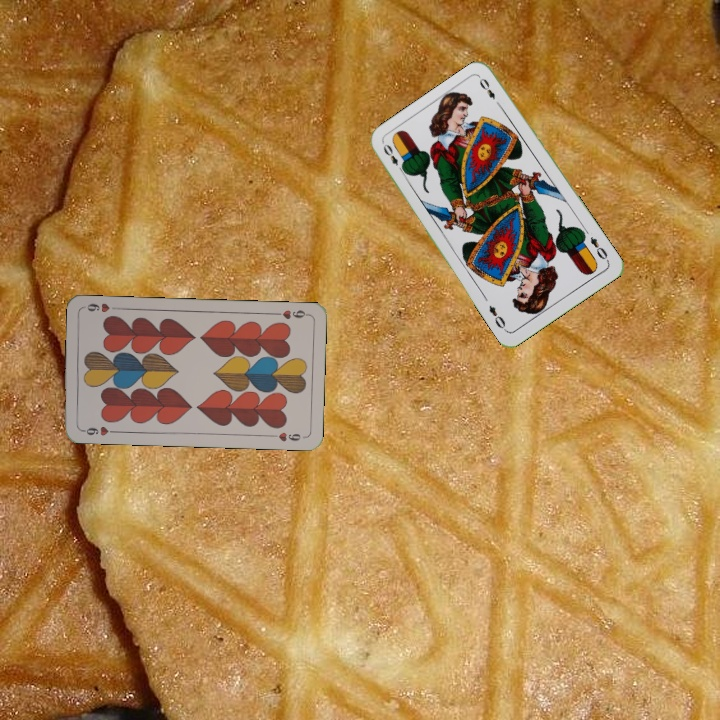EO: (379, 140, 407, 176), (586, 233, 611, 264)
H9: (270, 306, 310, 322), (78, 422, 118, 438)
